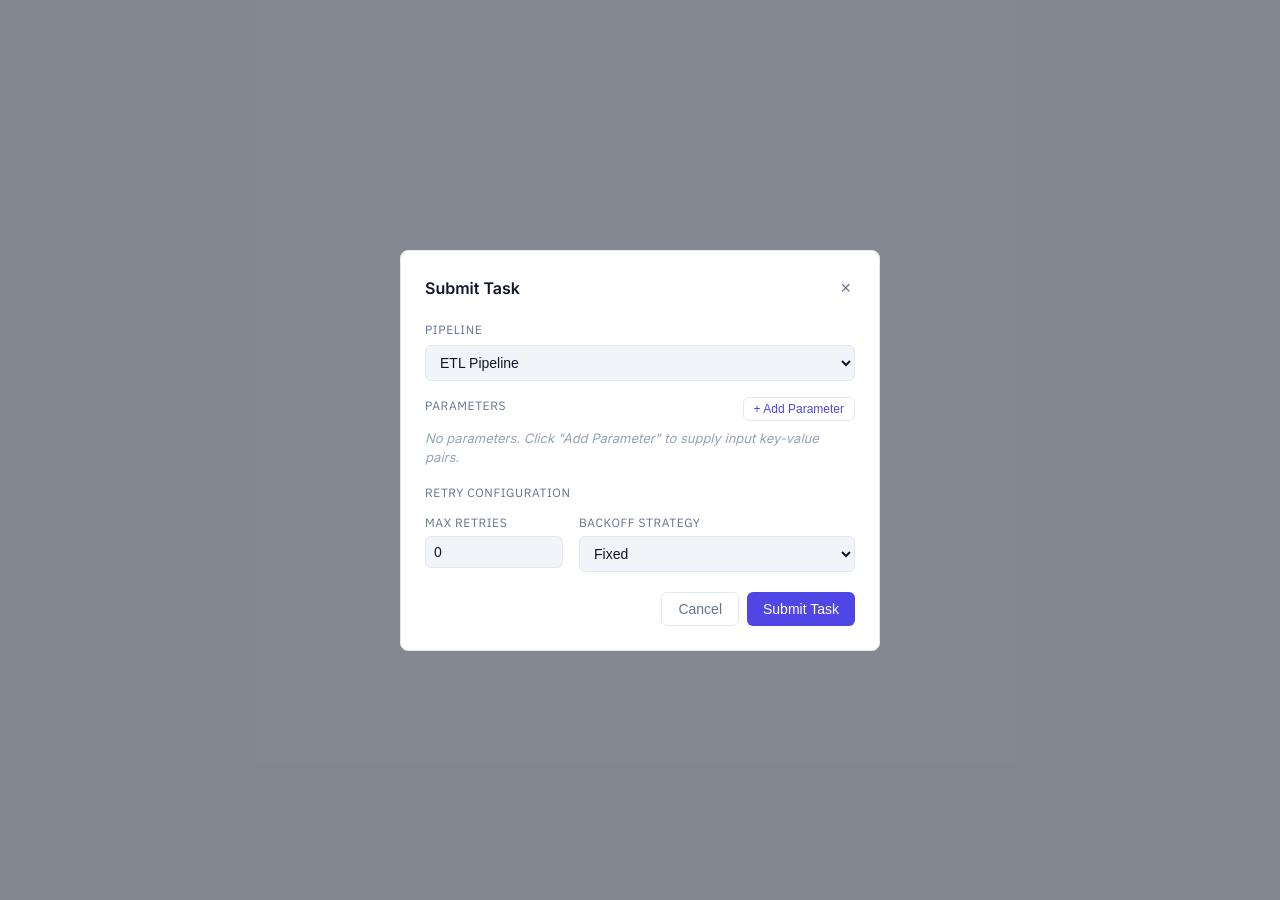
Scenario: SubmitTaskModal — parameter form › removes a parameter row when the remove button is clicked
Click the button "+ Add Parameter".
click(799, 408)  # box [743,396,855,420]
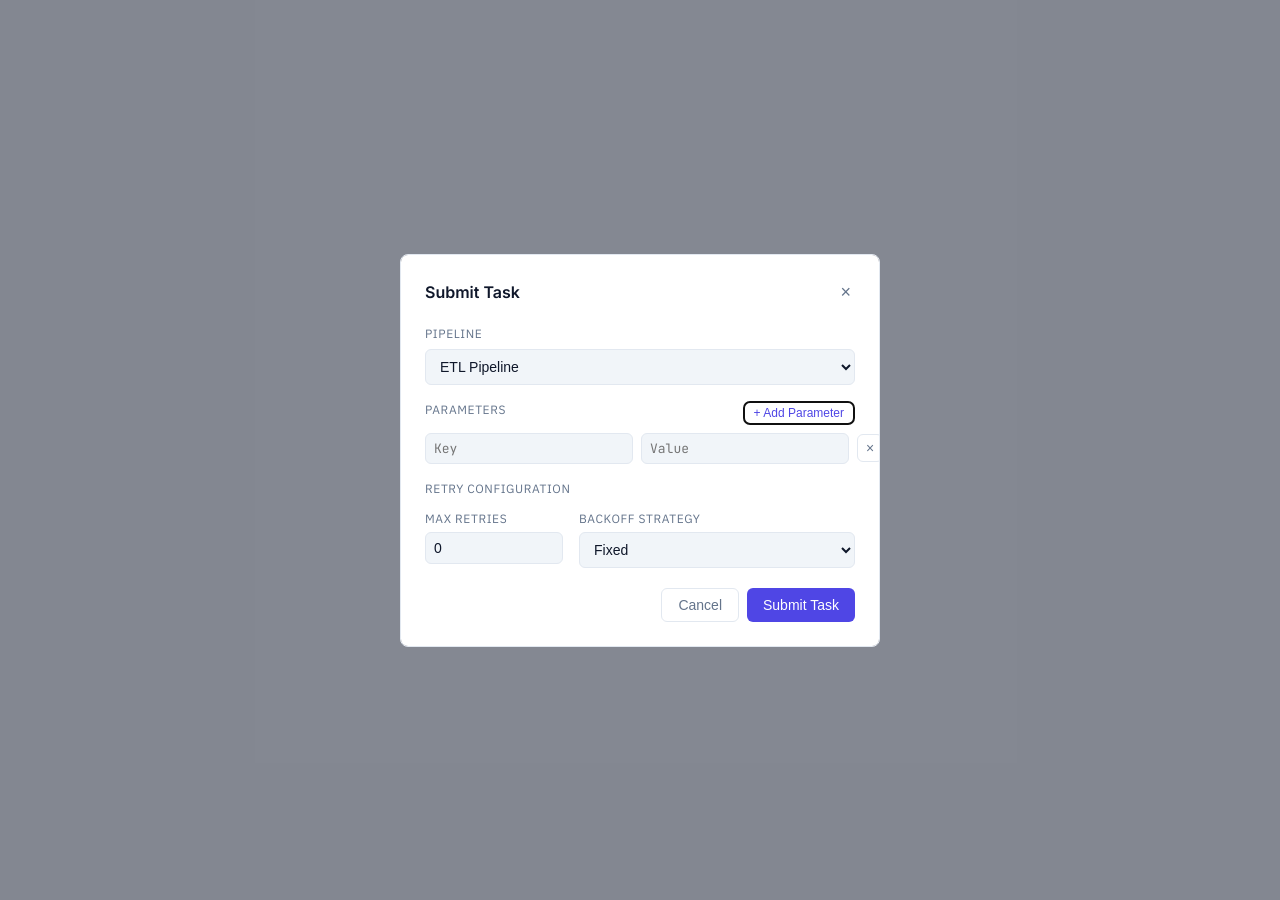
Check: the number of fields with placeholder "Key" is 1, box [425,432,633,464]
Click the button named "remove parameter".
click(870, 448)  # box [857,434,883,462]
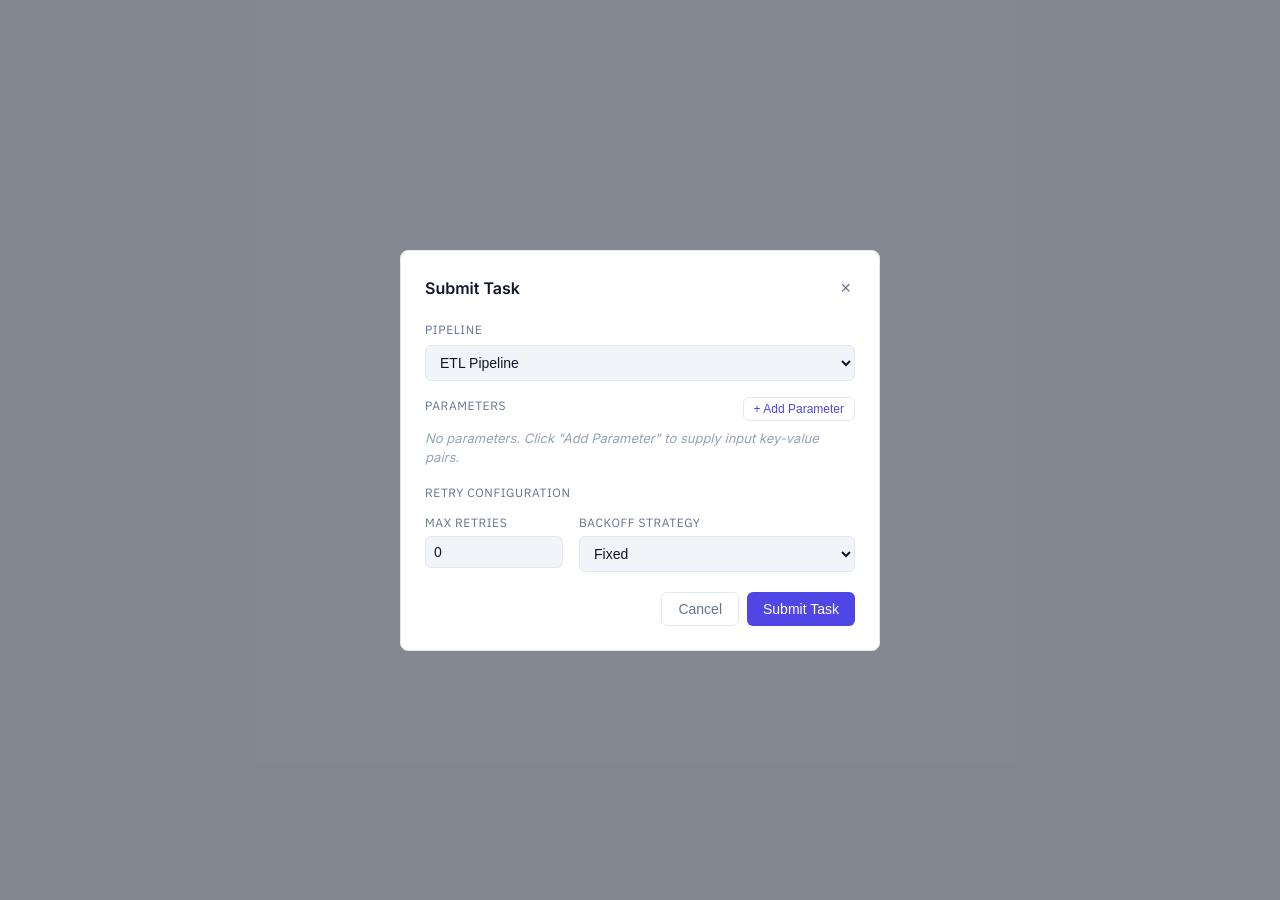
Check: no fields with placeholder "key" are shown
